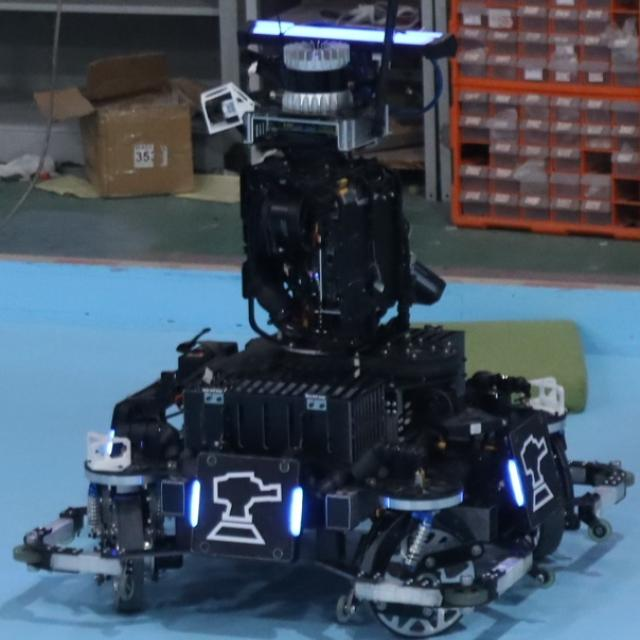Bs: (188, 466, 304, 546), (510, 427, 560, 516)
